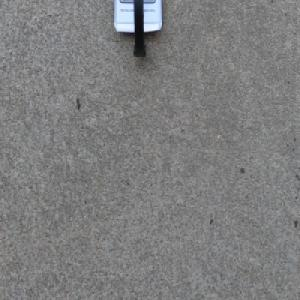LuggageTag: (111, 0, 163, 58)
